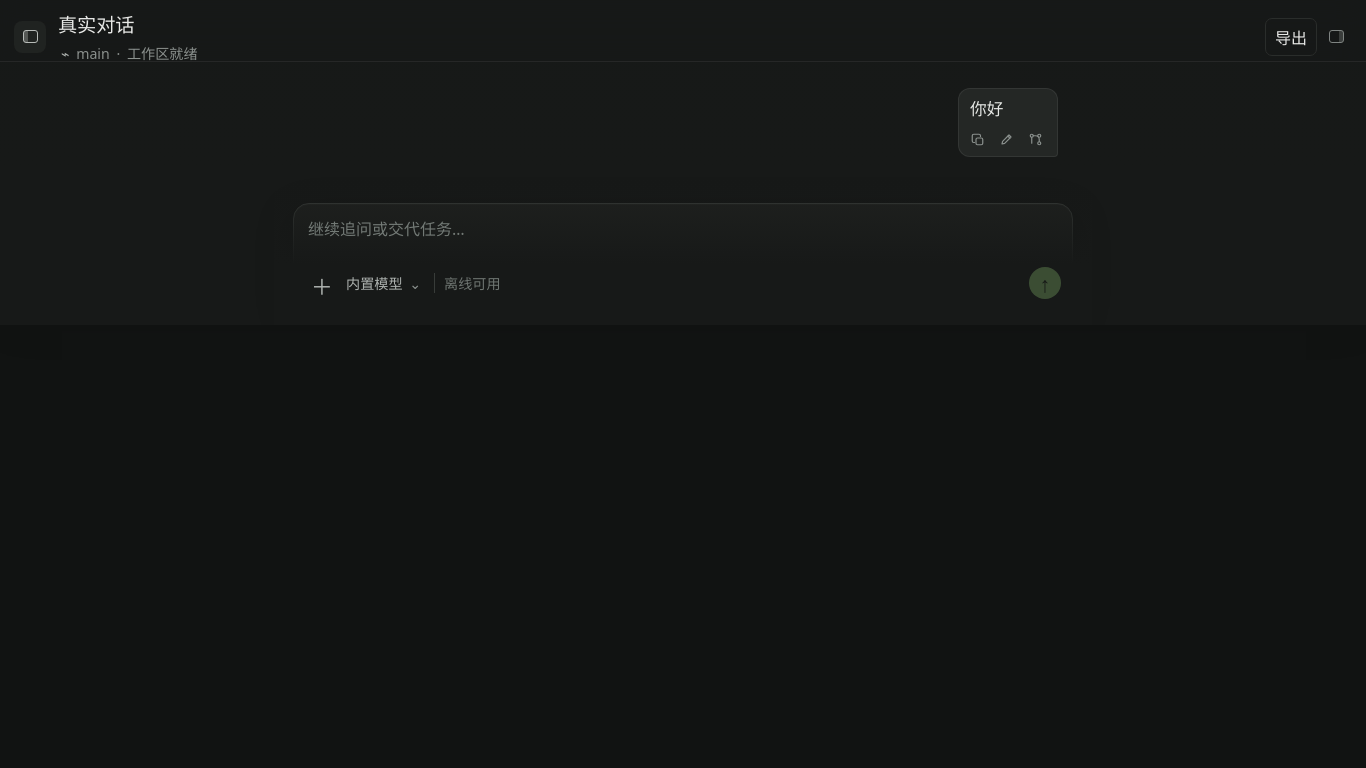
Test: conversation timeline projection › reveals observed response performance only inside the model menu
The width and height of the screenshot is (1366, 768).
Expected: the text "首字 1.2 秒" is not shown
Click the button "内置模型 ⌄": (384, 283) [339,267,428,299]
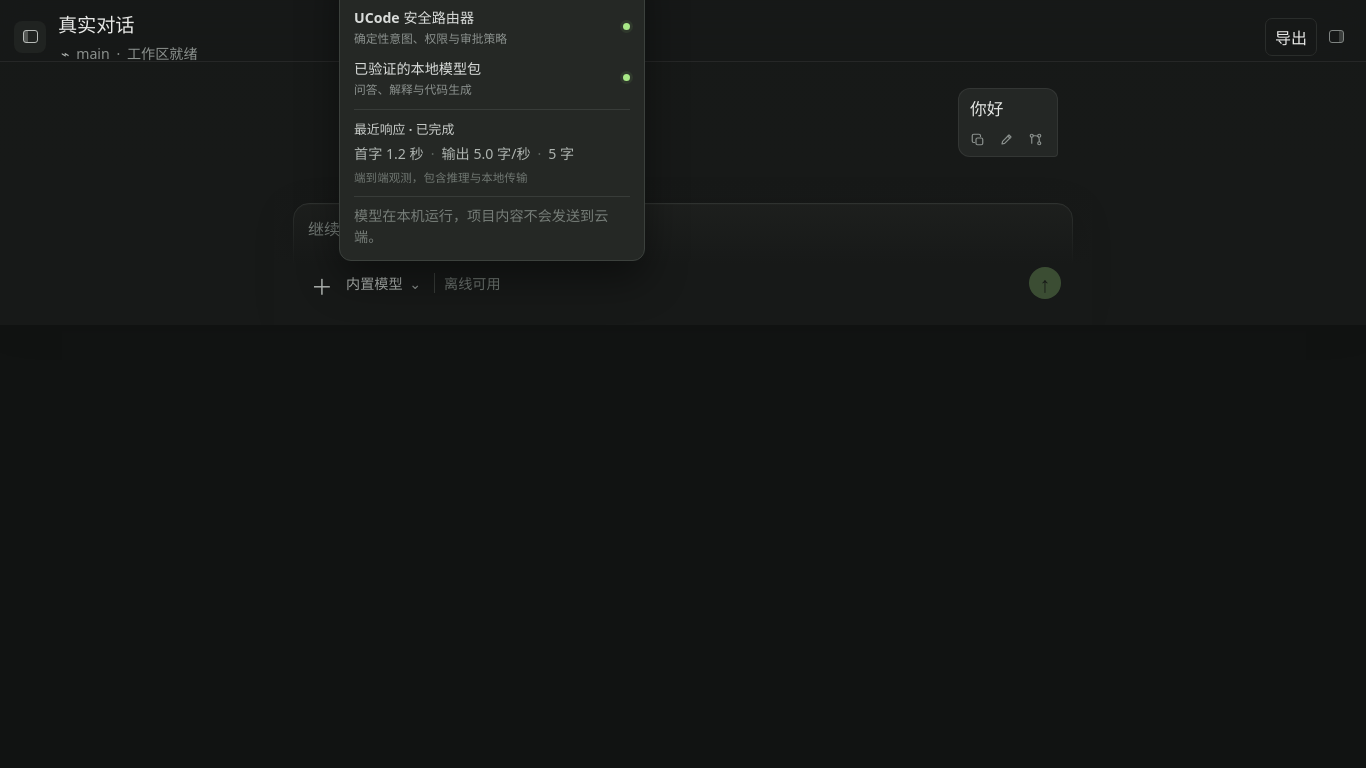
Expected: the dialog named "模型状态" shows "最近响应 · 已完成", [339,0,645,261]
Expected: the dialog named "模型状态" shows "首字 1.2 秒", [354,144,424,163]
Expected: the dialog named "模型状态" shows "输出 5.0 字/秒", [442,144,530,163]
